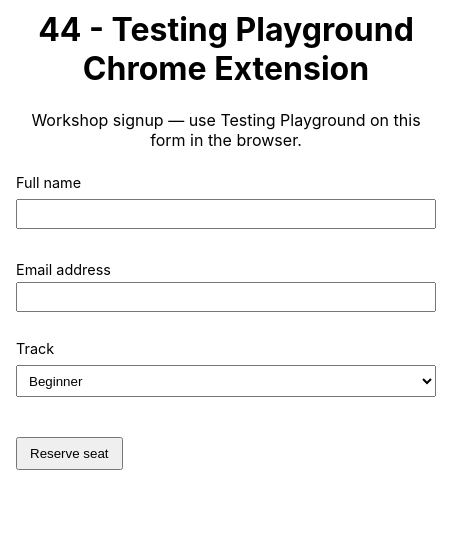
testing playground — recommended queries › fill form and confirm status message
Step 1. Type "Riya Mehta" into the field labelled "Full name" → (226, 214), box [16,199,436,229]
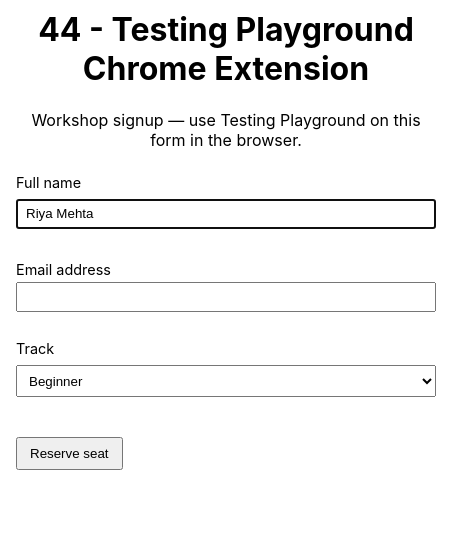
Step 2. Type "riya@example.com" into the field labelled "Email address" → (226, 297), box [16,282,436,312]
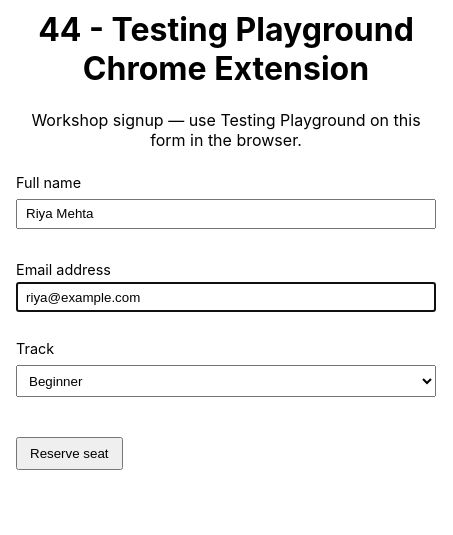
Step 3. Select "Advanced" in the dropdown labelled "Track" → (226, 381), box [16,365,436,397]
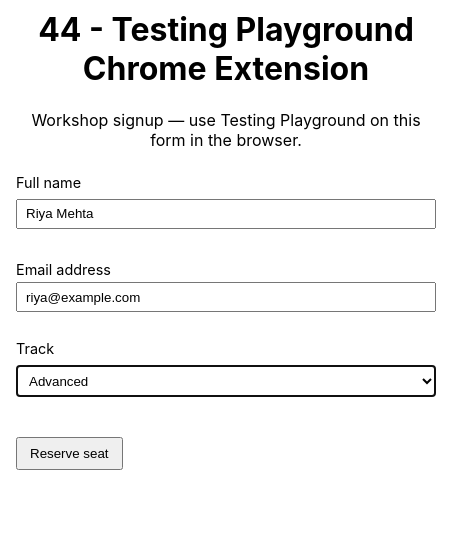
Step 4. Click the button "Reserve seat" → (69, 454), box [16,437,122,470]
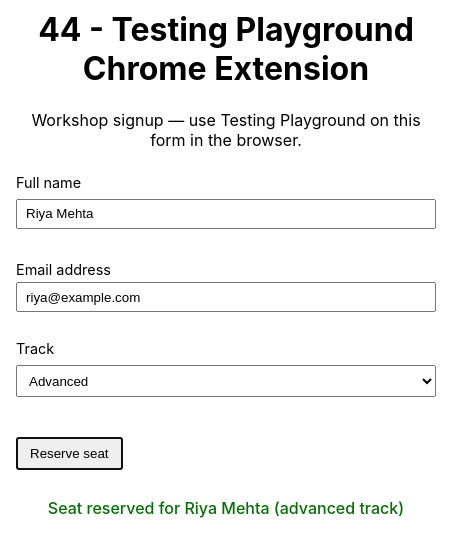
Expected: the message shows "Seat reserved for Riya Mehta", [48,498,404,518]
Expected: the message shows "advanced track", [48,498,404,518]
